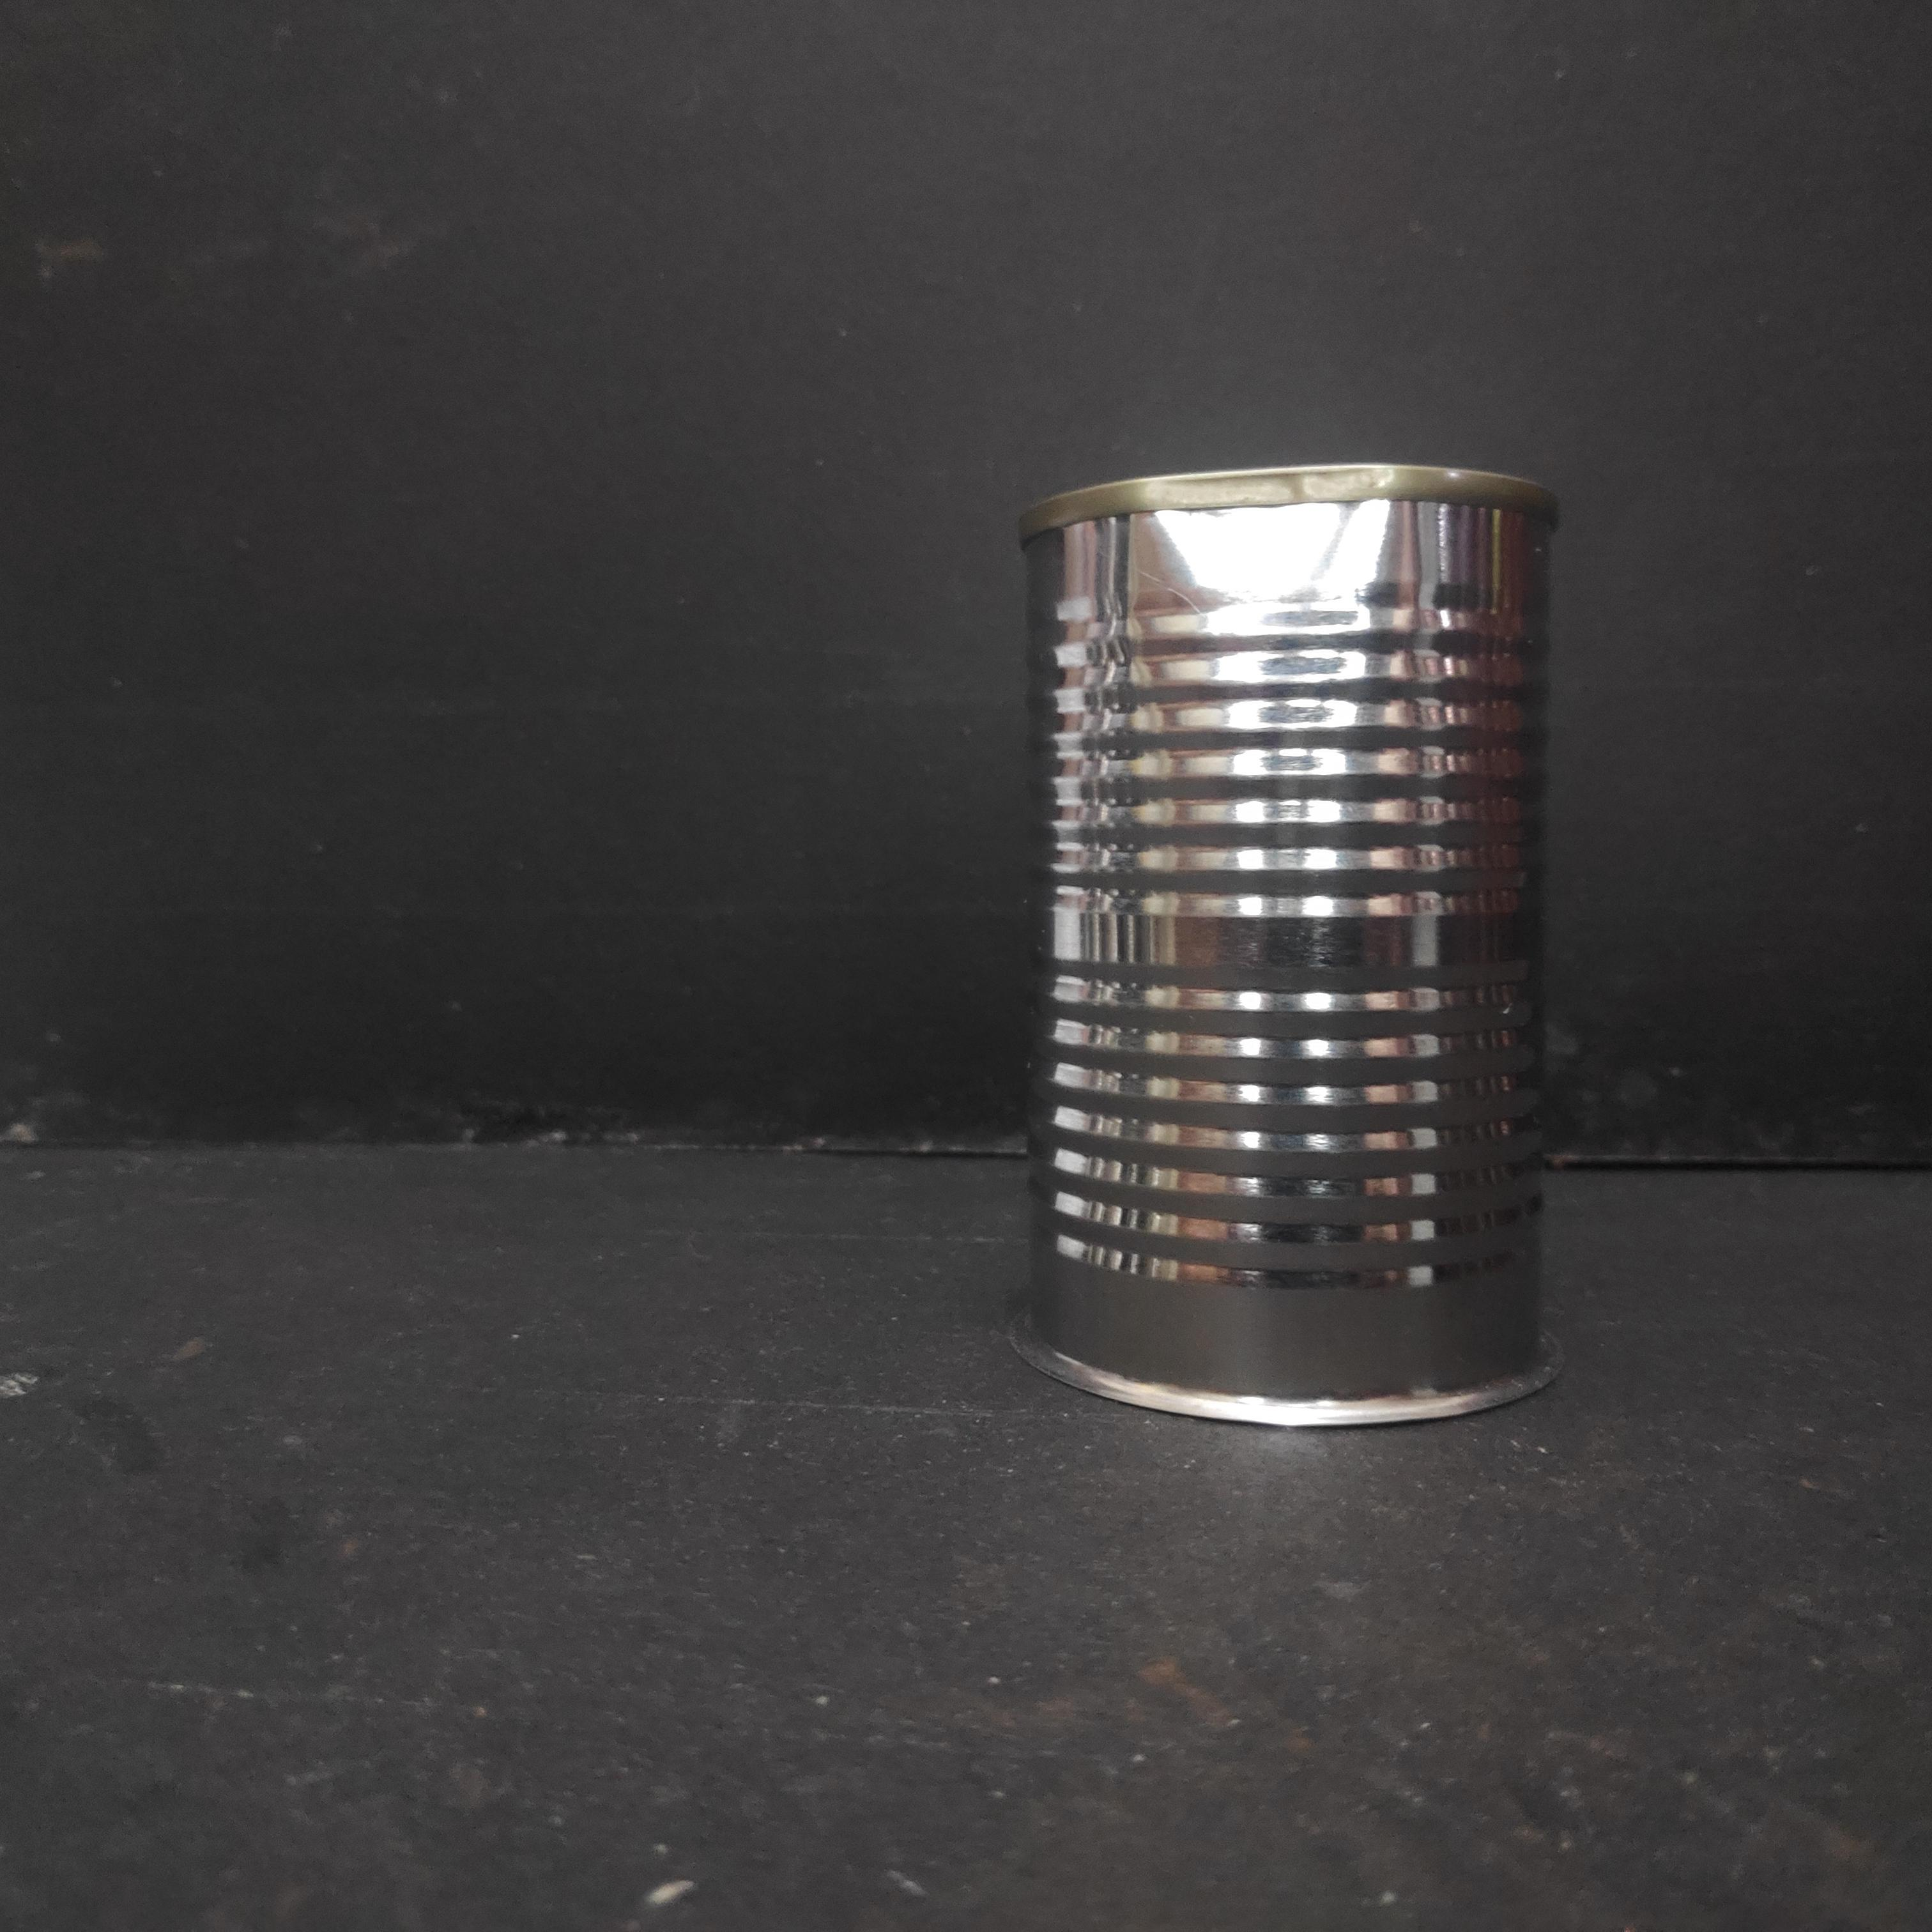Minor Defect: (1014, 461, 1576, 1436)
